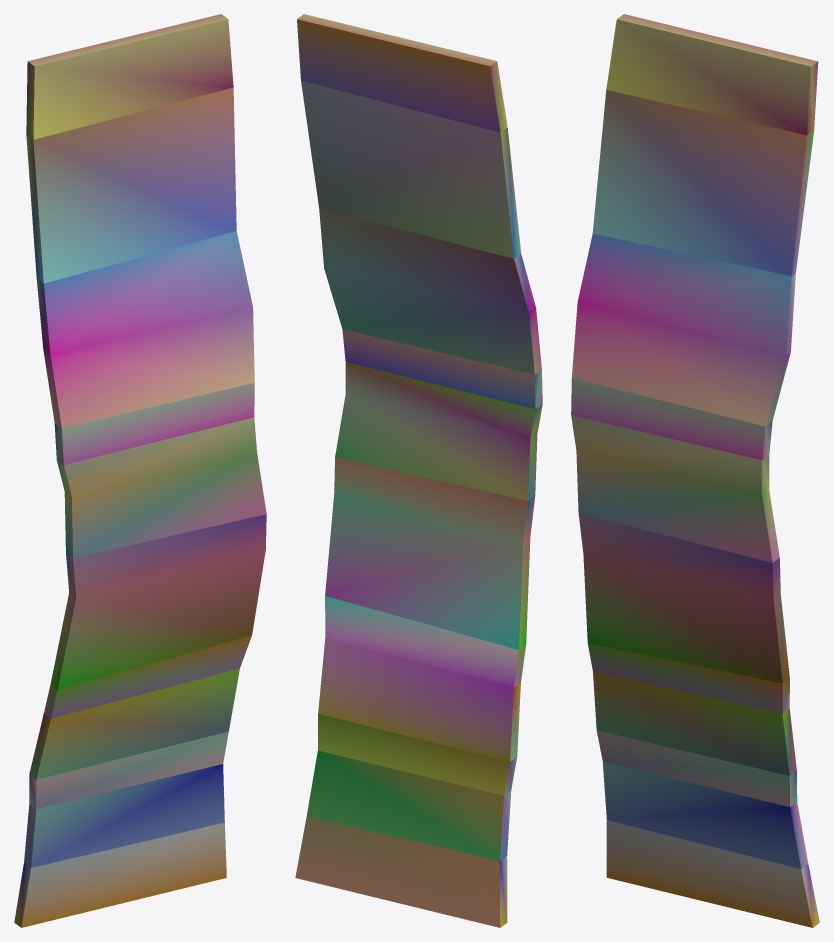
The model's file is Dock_StraightB_lod1.glb.
The picture shows the model from 3 angles, left to right: view 1: azimuth 30°, elevation 25°; view 2: azimuth 150°, elevation 25°; view 3: azimuth 330°, elevation 25°; orthographic projection.
Parts seen in each view (by area): view 1: MeshNode_0; view 2: MeshNode_0; view 3: MeshNode_0.
Boxes of the visible parts, x1=… form: MeshNode_0: x1=14, y1=14, x2=266, y2=927; MeshNode_0: x1=295, y1=14, x2=542, y2=927; MeshNode_0: x1=571, y1=14, x2=819, y2=927.
Size of the model in its own units: 16.04 by 64 by 6.4.
